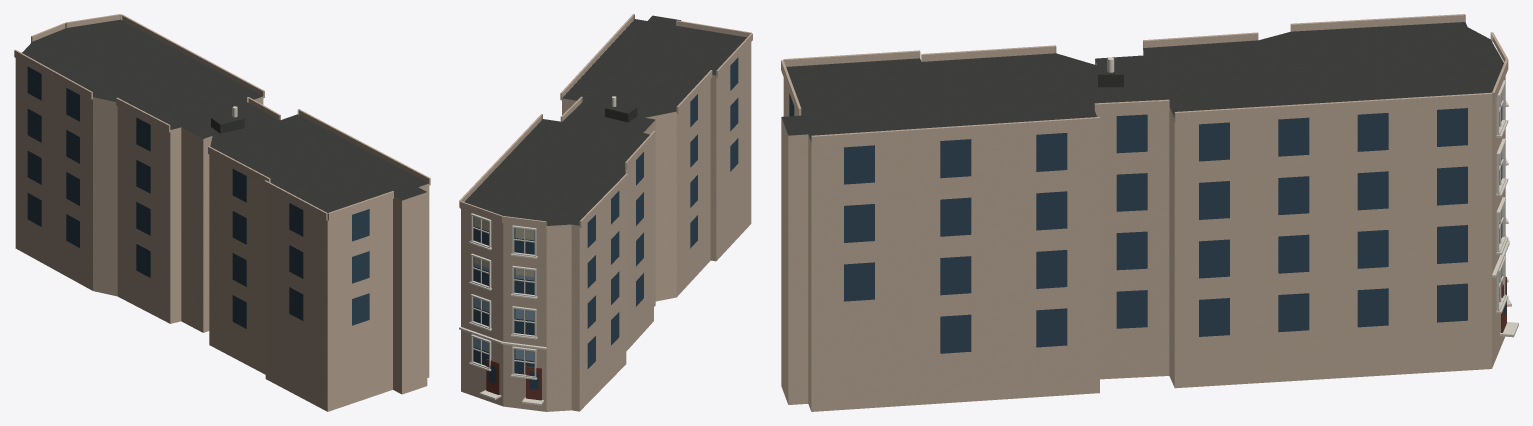
3 views of the same model, side by side, from view 1: azimuth 30°, elevation 25°; view 2: azimuth 150°, elevation 25°; view 3: azimuth 270°, elevation 25° (orthographic). The views are drawn at different scales.
Parts seen in each view (by area): view 1: Footprint 0 / surface 2, Footprint 0 / surface 1, Inset glazing, Facade bay volumes; view 2: Footprint 0 / surface 2, Footprint 0 / surface 1, Inset glazing, Facade bay volumes, Cornices and window frames, Sky reflection panels, Storefronts and doors, Interior blind variation; view 3: Footprint 0 / surface 2, Footprint 0 / surface 1, Inset glazing, Facade bay volumes, Cornices and window frames.
Part boxes in pixels (<box>): Footprint 0 / surface 2: <box>15,58,429,411</box>; Footprint 0 / surface 1: <box>21,19,428,212</box>; Inset glazing: <box>27,66,369,328</box>; Facade bay volumes: <box>14,14,430,220</box>; Footprint 0 / surface 2: <box>461,42,751,411</box>; Footprint 0 / surface 1: <box>464,15,746,225</box>; Inset glazing: <box>473,57,738,389</box>; Facade bay volumes: <box>459,14,752,228</box>; Cornices and window frames: <box>459,213,546,405</box>; Sky reflection panels: <box>474,216,534,361</box>; Storefronts and doors: <box>486,359,541,400</box>; Interior blind variation: <box>474,217,533,276</box>; Footprint 0 / surface 2: <box>781,59,1505,411</box>; Footprint 0 / surface 1: <box>781,22,1503,141</box>; Inset glazing: <box>789,93,1506,353</box>; Facade bay volumes: <box>781,14,1508,146</box>; Cornices and window frames: <box>1492,49,1518,337</box>.
Bounding box in the file's own units: 13.46 × 15.07 × 34.18.
